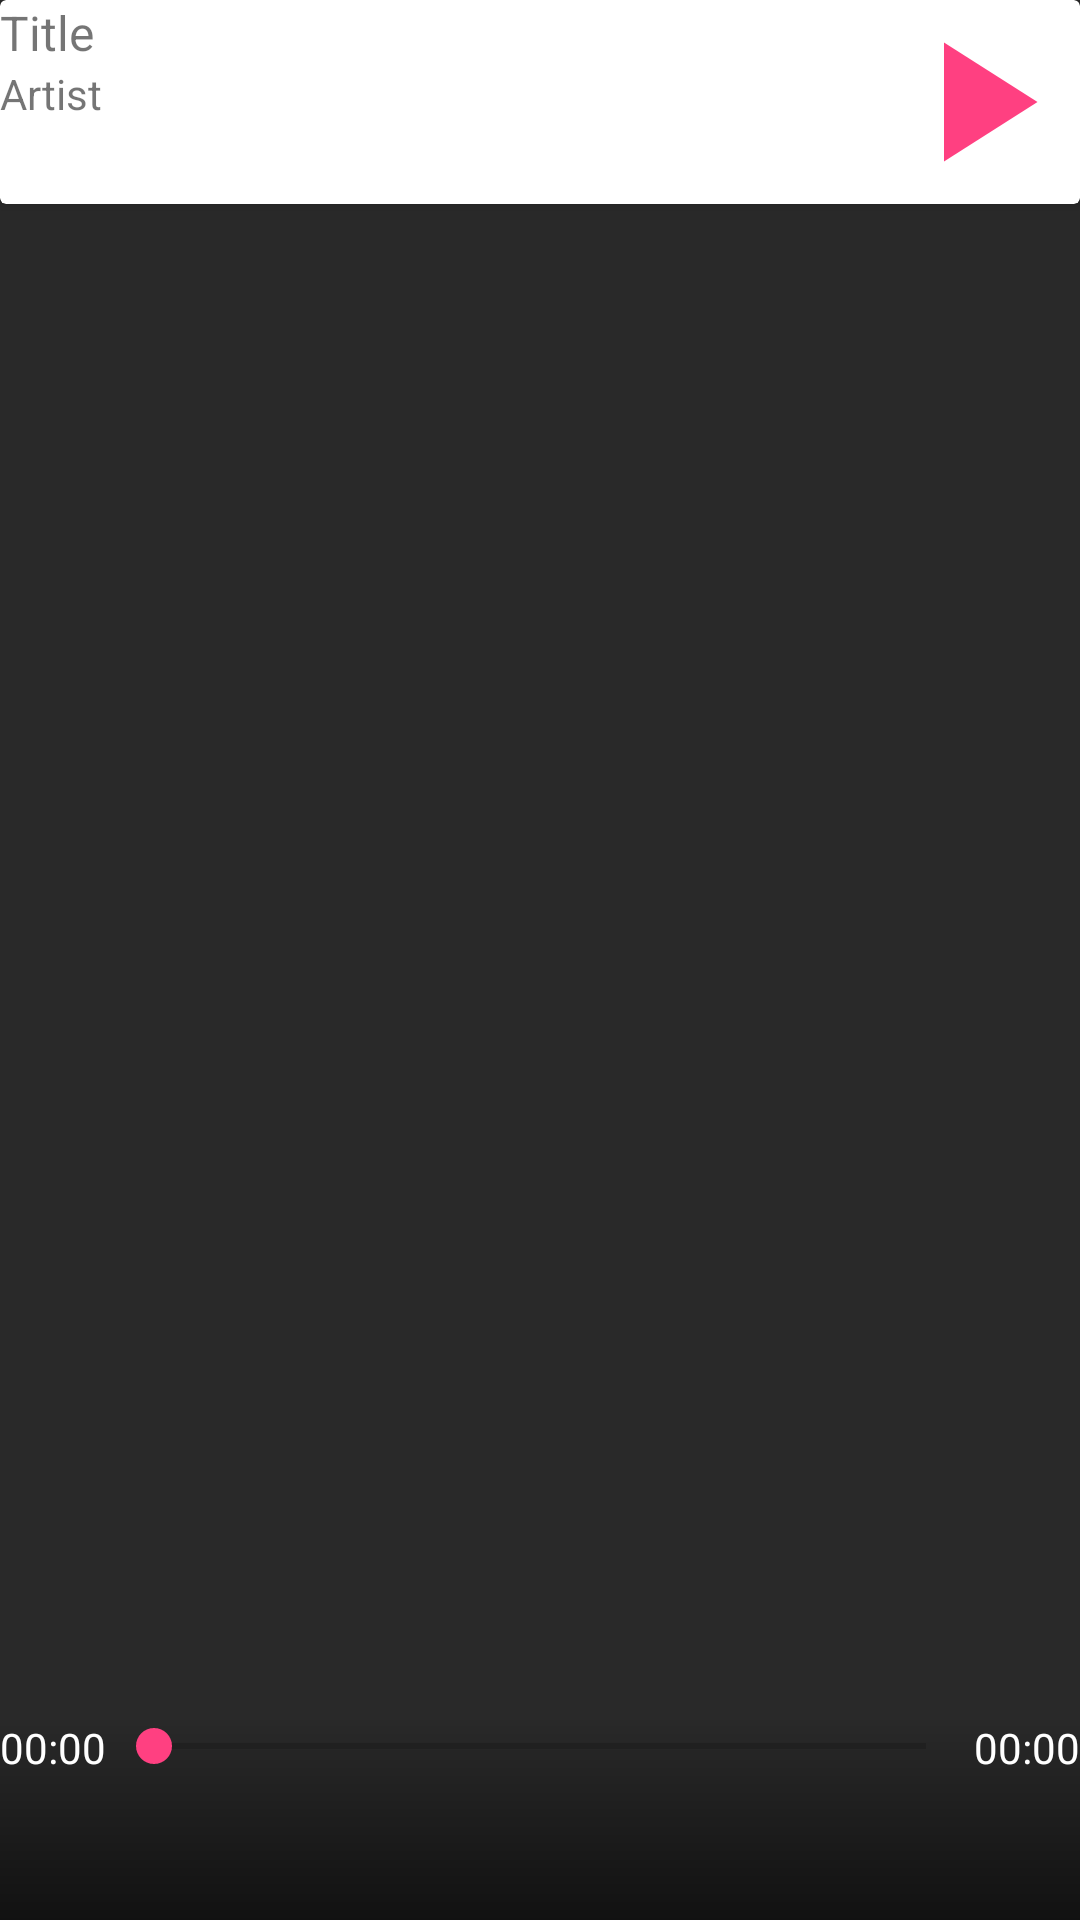

Named icons in this screenshot (1080px×1920px) and their bounding boxes, Rect(x1, y1, x2, y2):
playtopause: Rect(944, 0, 1080, 162)
